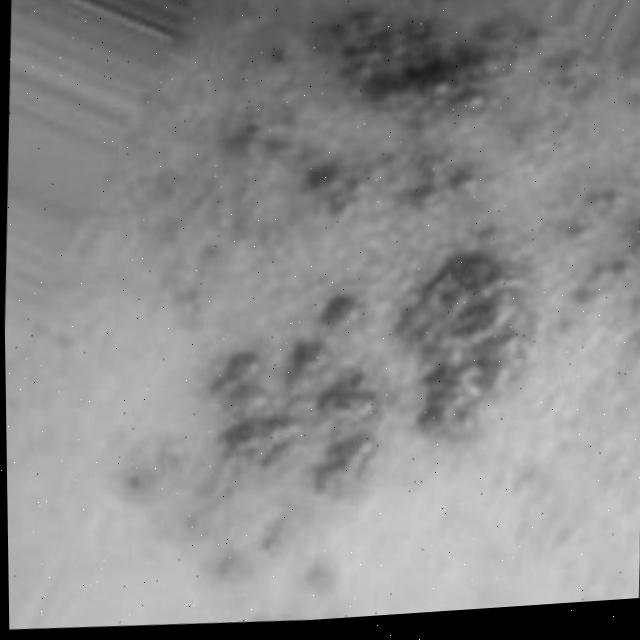Shingles: (121, 0, 605, 600)
